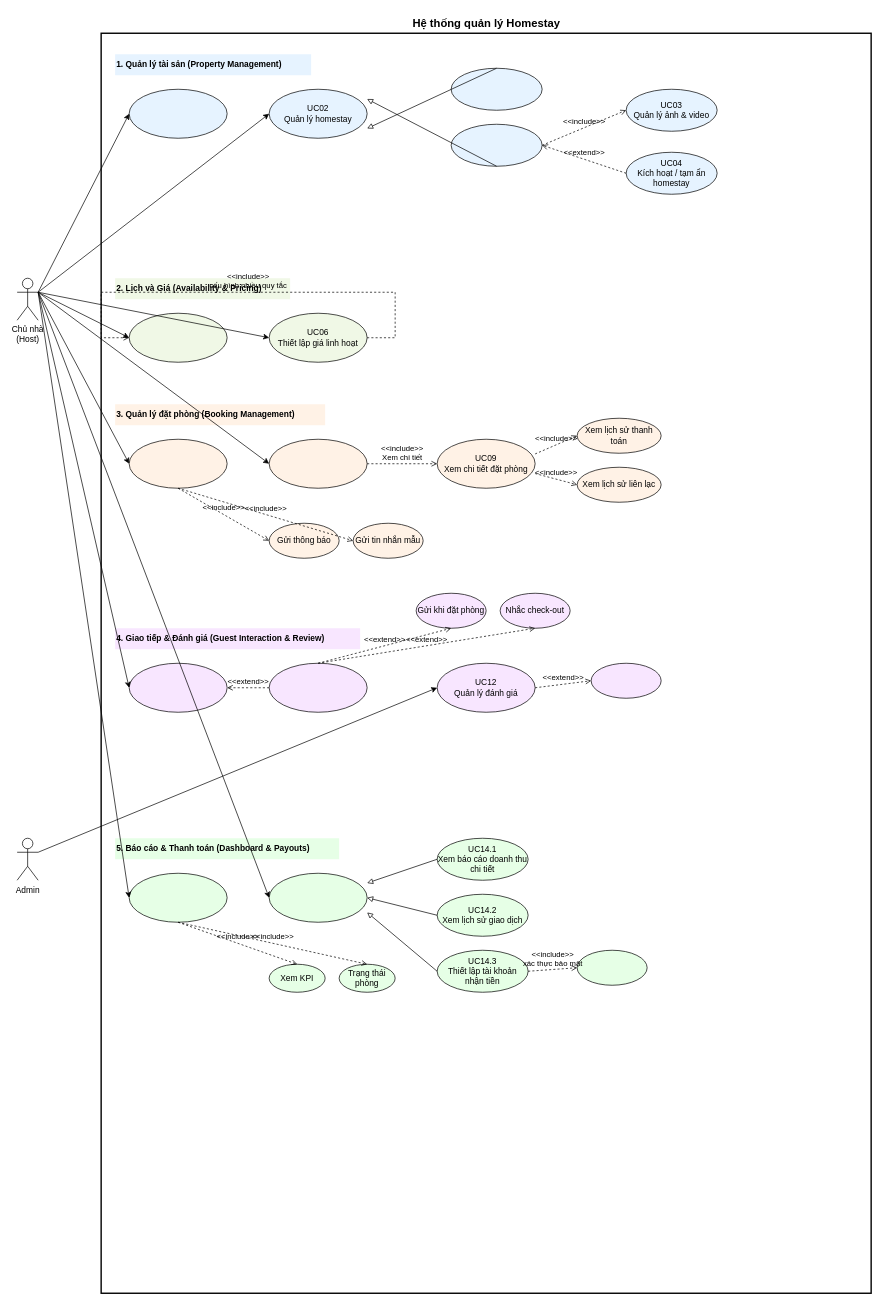
The diagram is 884 pixels wide and 1306 high, and some of its shapes have lost their labels. The centre of each missing label's shape, as x and y in pixels:
Phản hồi đánh giá: point 625,680
UC01 Quản lý hồ sơ chủ nhà: point 177,113
UC02.1 Tạo homestay mới: point 496,89
UC02.2 Cập nhật thông tin homestay: point 496,145
UC05 Quản lý lịch trống: point 177,337
UC07 Xử lý yêu cầu đặt phòng: point 177,463
UC08 Xem danh sách đặt phòng: point 317,463
UC10 Trò chuyện với khách hàng: point 177,687
UC11 Gửi tin nhắn tự động: point 317,687
UC13 Xem bảng điều khiển hiệu suất: point 177,897
UC14 Quản lý doanh thu & thanh toán: point 317,897
Xác thực bảo mật: point 611,967
